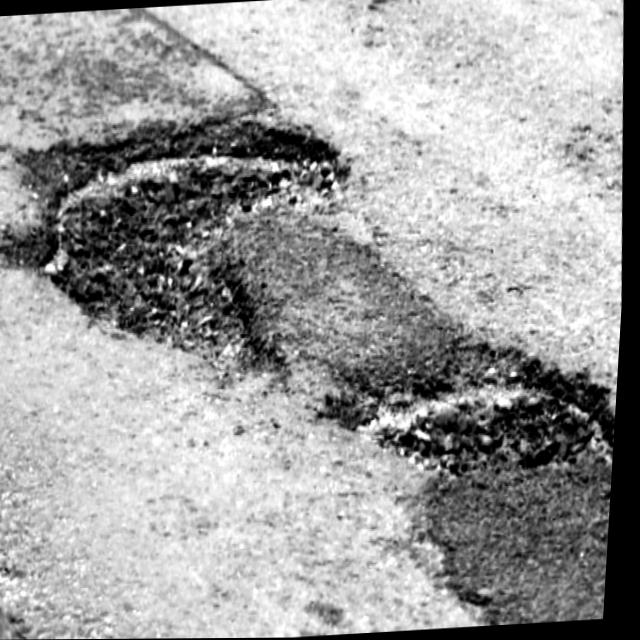pathole: (0, 55, 418, 487), (306, 207, 625, 638)
